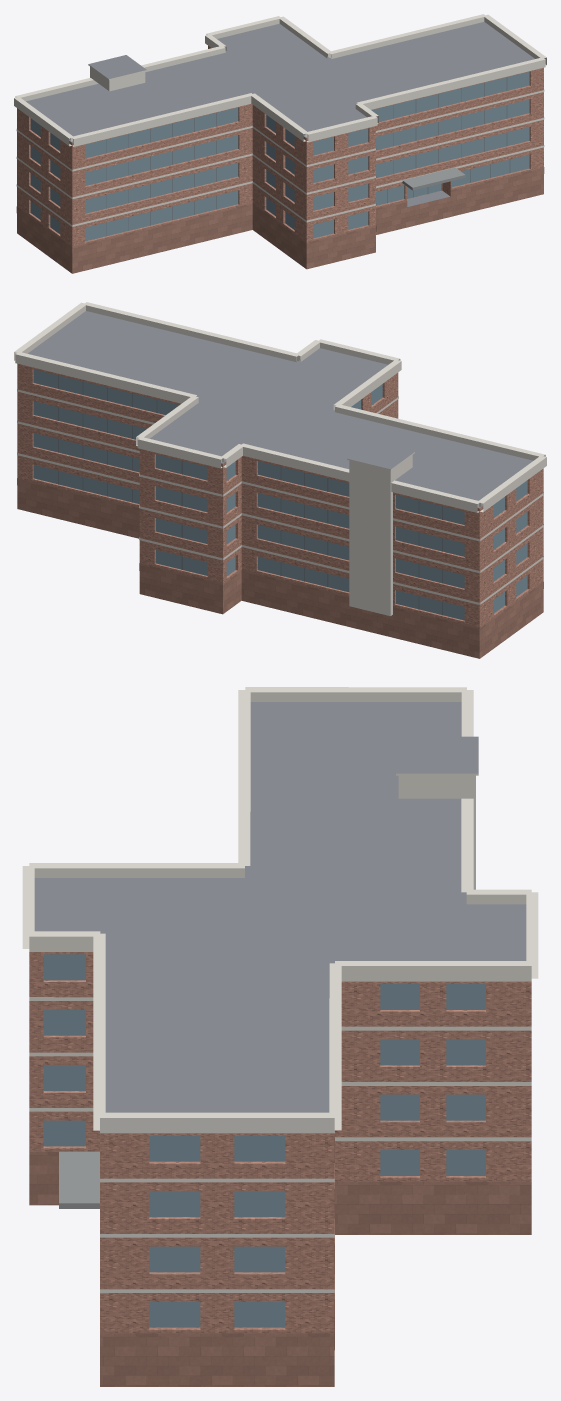
The picture shows the model from 3 angles, top to bottom: view 1: azimuth 30°, elevation 25°; view 2: azimuth 150°, elevation 25°; view 3: azimuth 270°, elevation 25°; orthographic projection. The views are drawn at different scales.
Visible parts, largest first — view 1: jihyeGwanN21__wall, jihyeGwanN21__roof, jihyeGwanN21__glass, jihyeGwanN21__trim, jihyeGwanN21__base, jihyeGwanN21__frame, jihyeGwanN21__canopy; view 2: jihyeGwanN21__wall, jihyeGwanN21__roof, jihyeGwanN21__trim, jihyeGwanN21__glass, jihyeGwanN21__base, jihyeGwanN21__frame; view 3: jihyeGwanN21__roof, jihyeGwanN21__wall, jihyeGwanN21__trim, jihyeGwanN21__base, jihyeGwanN21__glass, jihyeGwanN21__canopy.
Boxes of the visible parts, <box> form: jihyeGwanN21__wall: <box>17,46,543,252</box>; jihyeGwanN21__roof: <box>26,22,534,206</box>; jihyeGwanN21__glass: <box>30,71,529,241</box>; jihyeGwanN21__trim: <box>14,14,546,226</box>; jihyeGwanN21__base: <box>16,167,544,273</box>; jihyeGwanN21__frame: <box>106,77,510,235</box>; jihyeGwanN21__canopy: <box>402,167,465,190</box>; jihyeGwanN21__wall: <box>17,363,543,635</box>; jihyeGwanN21__roof: <box>27,311,533,508</box>; jihyeGwanN21__trim: <box>14,302,546,616</box>; jihyeGwanN21__glass: <box>33,369,527,620</box>; jihyeGwanN21__base: <box>17,478,543,658</box>; jihyeGwanN21__frame: <box>58,375,442,615</box>; jihyeGwanN21__roof: <box>34,702,526,1299</box>; jihyeGwanN21__wall: <box>29,952,531,1333</box>; jihyeGwanN21__trim: <box>22,687,538,1293</box>; jihyeGwanN21__base: <box>29,1152,531,1386</box>; jihyeGwanN21__glass: <box>43,954,485,1327</box>; jihyeGwanN21__canopy: <box>59,1151,99,1208</box>.
Size of the model in its own units: 56.75 by 18.3 by 28.73.
8 materials, 2 textured.
